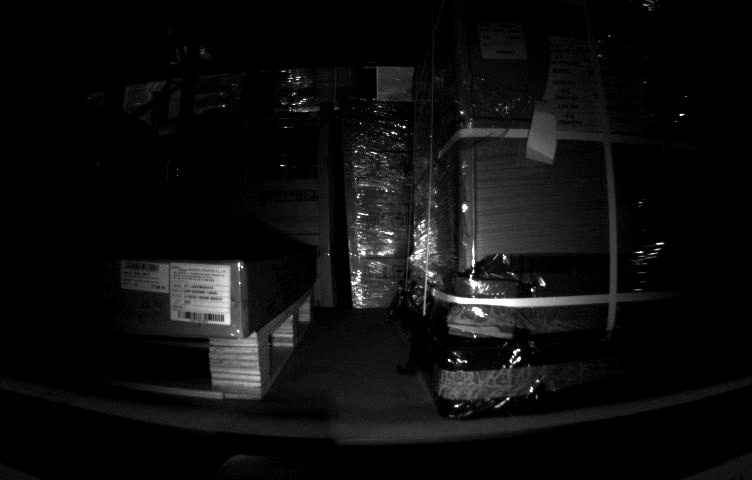True Barcode: (477, 18, 526, 61)
